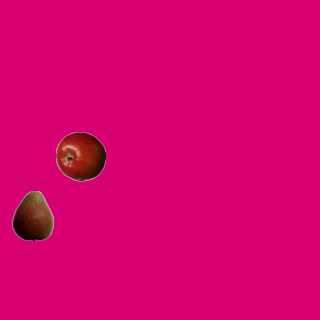Apple Braeburn: (55, 131, 105, 181)
Pear Forelle: (7, 190, 57, 240)
